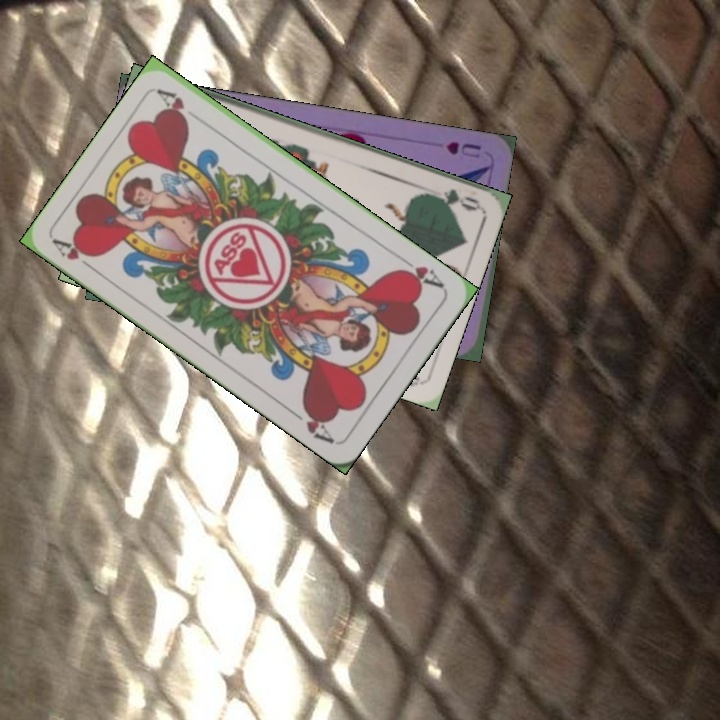GO: (421, 184, 482, 214)
HA: (393, 252, 447, 292), (49, 235, 101, 276)
HU: (441, 137, 484, 161)
